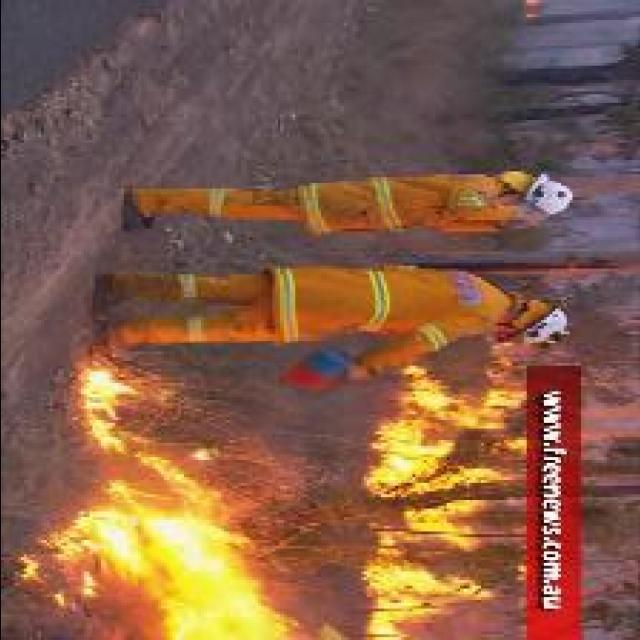Fire: (9, 365, 309, 640), (362, 361, 524, 548), (362, 531, 494, 640)
